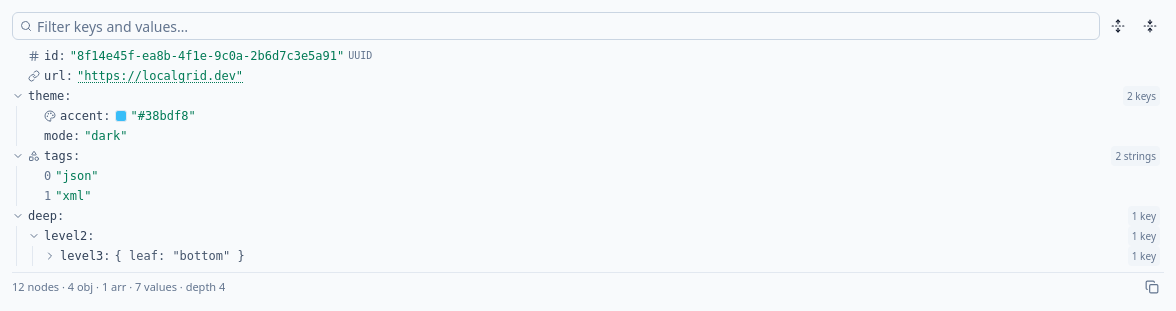
Test case: DataTree › filters to matching nodes and keeps their ancestors for context
Step 1. Type "bottom" into the field named "filter json tree" → (556, 26), box left=12, top=12, right=1100, bottom=40
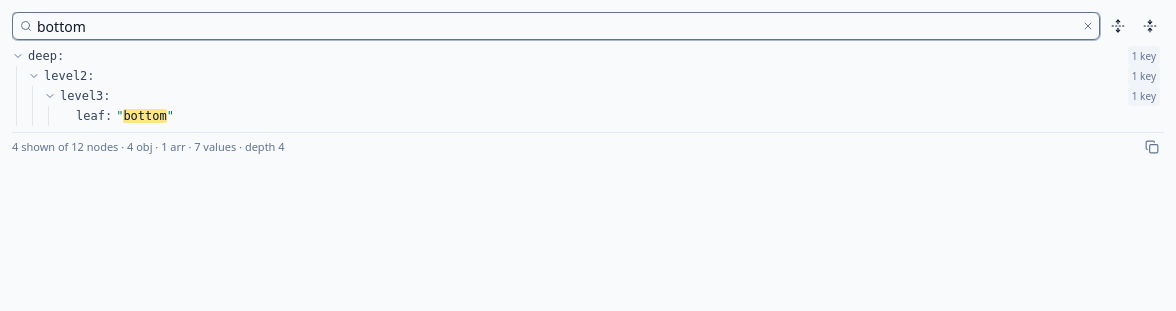
Expected: the text "deep" is shown, left=28, top=49, right=57, bottom=63
Expected: the text "theme" is gone
